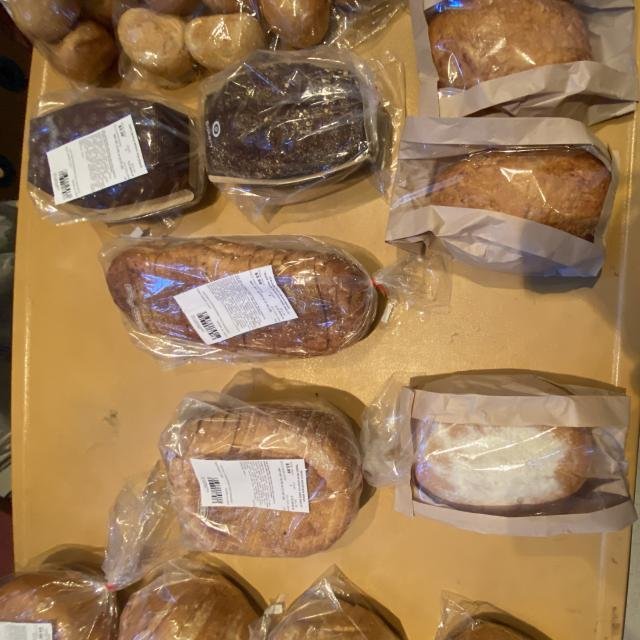Bread: (361, 375, 635, 537), (386, 116, 619, 276), (100, 236, 376, 368), (199, 45, 404, 222), (159, 391, 362, 556), (410, 0, 639, 125), (28, 88, 205, 225), (119, 553, 266, 640), (249, 564, 406, 640), (0, 545, 119, 640), (435, 590, 550, 640)
